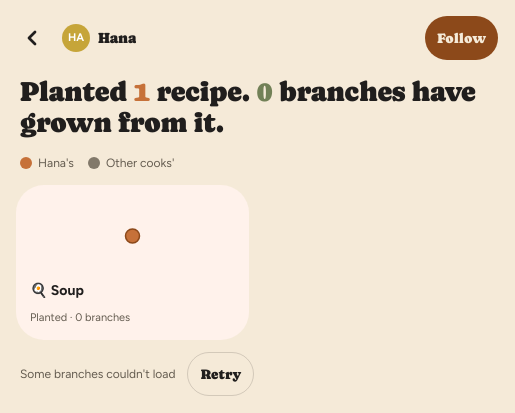
Test case: ForestPage › draws a family from the person own versions when its tree read fails
Expected: the text "Planted · 0 branches" is shown, [30,311,130,324]
Expected: the text "Some branches couldn't load" is shown, [20,366,175,382]
Click the button "Retry". click: (221, 374)
box: [187,352,254,396]
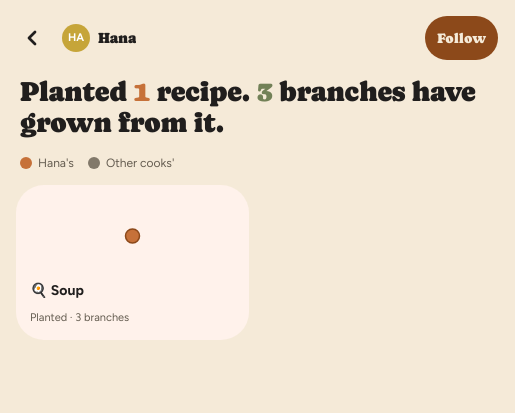
Expected: the text "Planted · 3 branches" is shown, [30,311,129,324]
